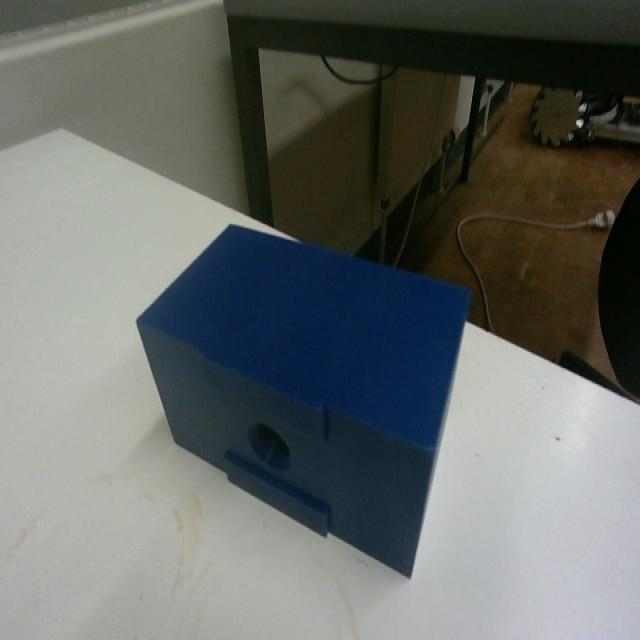Blue Cuboid: (134, 217, 473, 579)
